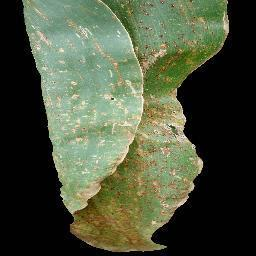Corn_Common_Rust: (20, 0, 235, 61), (32, 61, 206, 123), (57, 184, 197, 254), (46, 123, 205, 184)
